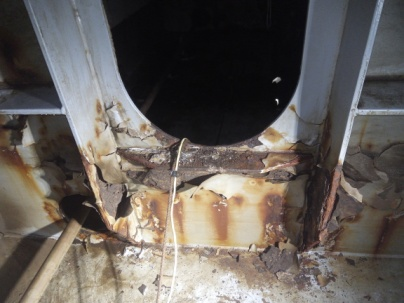corrosion: (122, 129, 283, 177), (16, 140, 85, 222), (227, 253, 340, 291), (307, 129, 344, 244), (85, 154, 132, 228), (258, 186, 306, 251), (0, 117, 40, 186), (206, 198, 252, 256), (247, 142, 312, 181), (371, 210, 404, 264), (164, 196, 197, 249), (140, 194, 164, 245)
